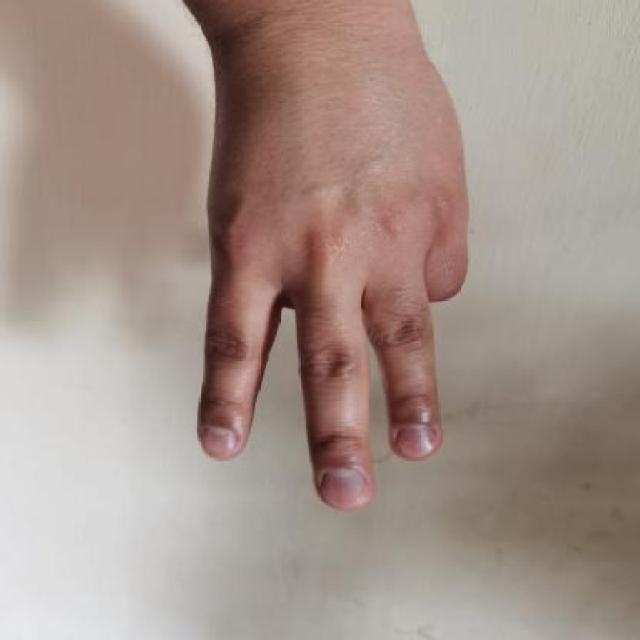M: (153, 0, 498, 514)
